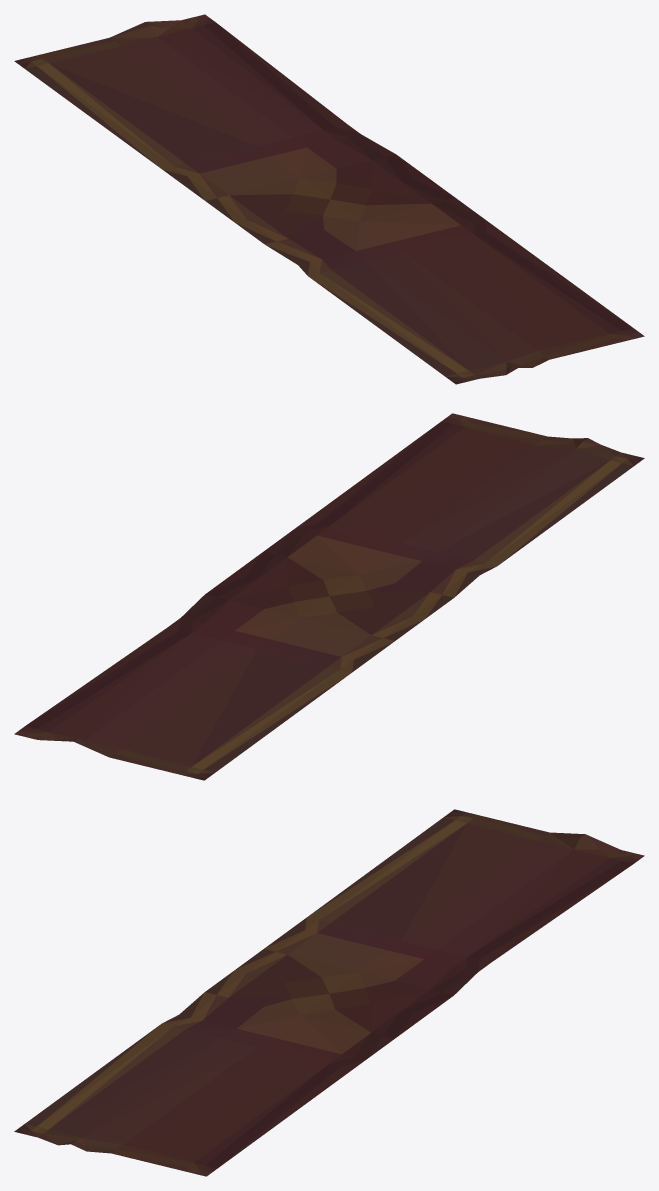
The model's file is prop_decor_rug_runner_1.fbx.
3 views of the same model, one above another, from view 1: azimuth 30°, elevation 25°; view 2: azimuth 150°, elevation 25°; view 3: azimuth 330°, elevation 25° (orthographic).
Visible parts, largest first — view 1: prop_decor_rug_runner_1; view 2: prop_decor_rug_runner_1; view 3: prop_decor_rug_runner_1.
Part boxes in pixels (x1=…): prop_decor_rug_runner_1: x1=14, y1=14, x2=644, y2=384; prop_decor_rug_runner_1: x1=14, y1=413, x2=644, y2=780; prop_decor_rug_runner_1: x1=14, y1=809, x2=644, y2=1176.
Size of the model in its own units: 1.5 by 0.0531 by 6.05.
